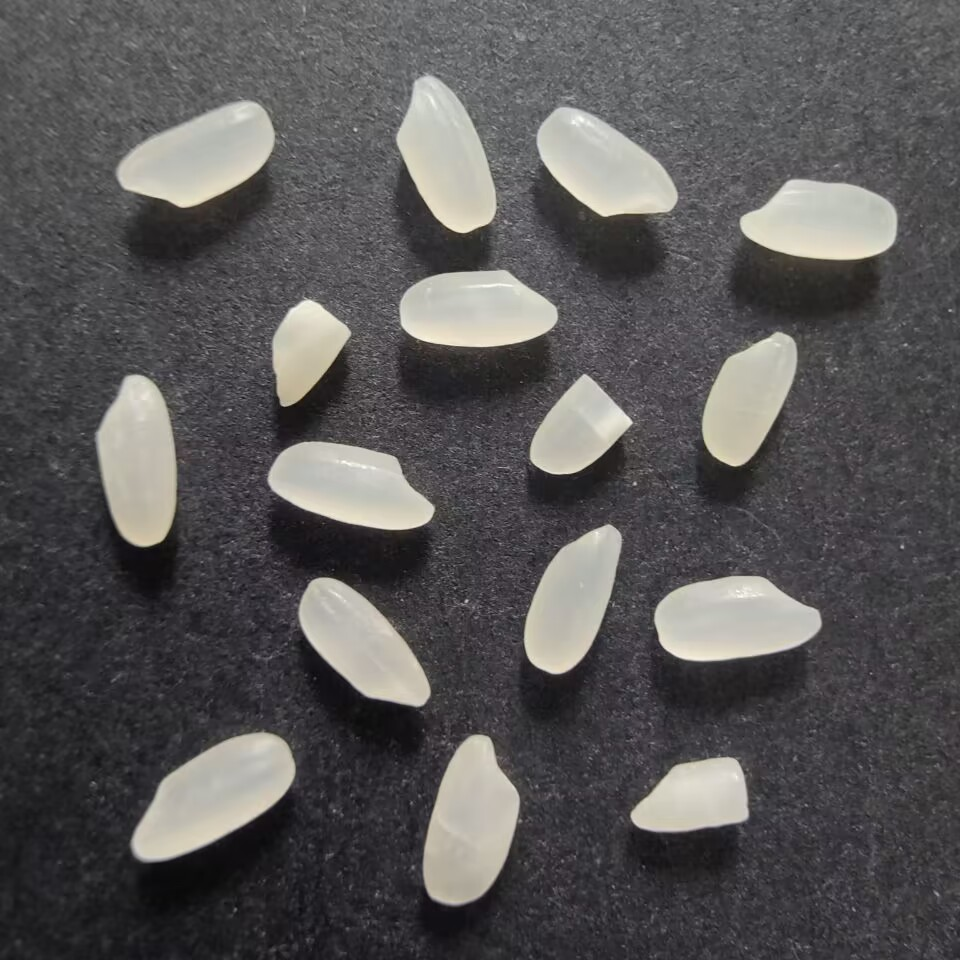broken: (522, 369, 639, 479), (616, 752, 752, 843), (263, 293, 356, 412)
rice: (122, 725, 304, 872), (416, 728, 529, 912), (289, 571, 434, 710), (529, 99, 683, 224), (110, 98, 279, 211), (389, 70, 502, 234), (646, 568, 829, 669), (89, 364, 182, 549), (260, 438, 438, 533), (519, 520, 622, 680), (697, 326, 804, 472), (730, 172, 902, 261), (392, 265, 564, 353)
